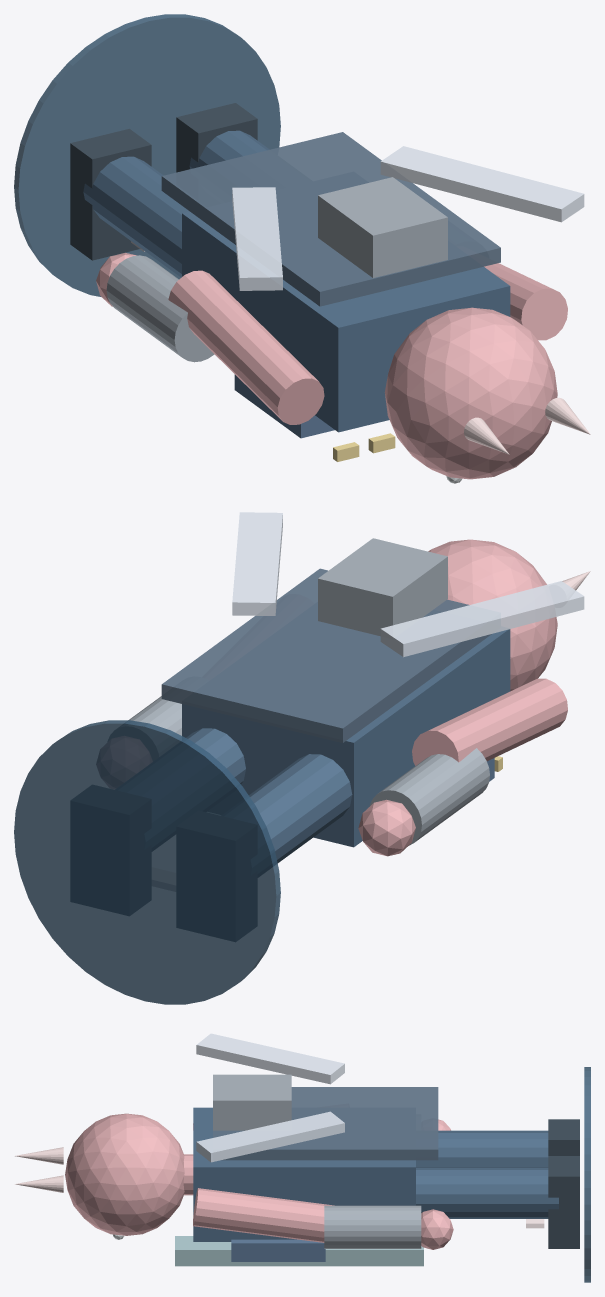
Rendered from SW_NPC_015_orren_stormvale.glb.
3 views of the same model, one above another, from view 1: azimuth 30°, elevation 25°; view 2: azimuth 150°, elevation 25°; view 3: azimuth 270°, elevation 25° (orthographic). The views are drawn at different scales.
Visible parts, largest first — view 1: round_base_plate, head, torso_uniform, storm_cloak, left_upper_arm, wingpack_core, left_leg, right_wing_rig, left_forearm_gauntlet, left_boot, left_wing_rig, right_upper_arm (+6 smaller); view 2: round_base_plate, storm_cloak, torso_uniform, wingpack_core, head, left_upper_arm, left_wing_rig, left_leg, left_forearm_gauntlet, right_wing_rig, left_hand, right_leg (+1 smaller); view 3: head, torso_uniform, storm_cloak, right_leg, right_upper_arm, left_leg, right_forearm_gauntlet, wingpack_core, rank_sash, right_wing_rig, left_wing_rig, right_boot (+7 smaller).
Boxes of the visible parts, x1,y1,x2,y2 form: round_base_plate: (14, 14, 280, 296); head: (384, 307, 557, 479); torso_uniform: (182, 211, 510, 432); storm_cloak: (161, 132, 500, 306); left_upper_arm: (168, 270, 324, 424); wingpack_core: (318, 177, 447, 277); left_leg: (83, 156, 189, 277); right_wing_rig: (380, 146, 584, 222); left_forearm_gauntlet: (106, 255, 214, 362); left_boot: (70, 128, 151, 260); left_wing_rig: (232, 187, 282, 290); right_upper_arm: (484, 263, 567, 340); round_base_plate: (14, 720, 280, 1004); storm_cloak: (161, 568, 491, 742); torso_uniform: (182, 629, 510, 847); wingpack_core: (318, 538, 447, 636); head: (428, 539, 557, 691); left_upper_arm: (412, 678, 567, 765); left_wing_rig: (380, 581, 584, 657); left_leg: (249, 754, 352, 863); left_forearm_gauntlet: (369, 748, 489, 845); right_wing_rig: (232, 512, 282, 615); left_hand: (358, 799, 415, 856); right_leg: (186, 728, 245, 784); head: (65, 1113, 184, 1235); torso_uniform: (193, 1107, 415, 1241); storm_cloak: (213, 1087, 438, 1160); right_leg: (416, 1167, 558, 1218); right_upper_arm: (193, 1188, 334, 1242); left_leg: (416, 1130, 548, 1167); right_forearm_gauntlet: (324, 1205, 421, 1248); wingpack_core: (213, 1074, 291, 1130); rank_sash: (175, 1236, 423, 1266); right_wing_rig: (196, 1111, 344, 1162); left_wing_rig: (196, 1033, 344, 1084); right_boot: (548, 1156, 579, 1248).
Size of the model in its own units: 1.08 by 0.8232 by 2.2.
